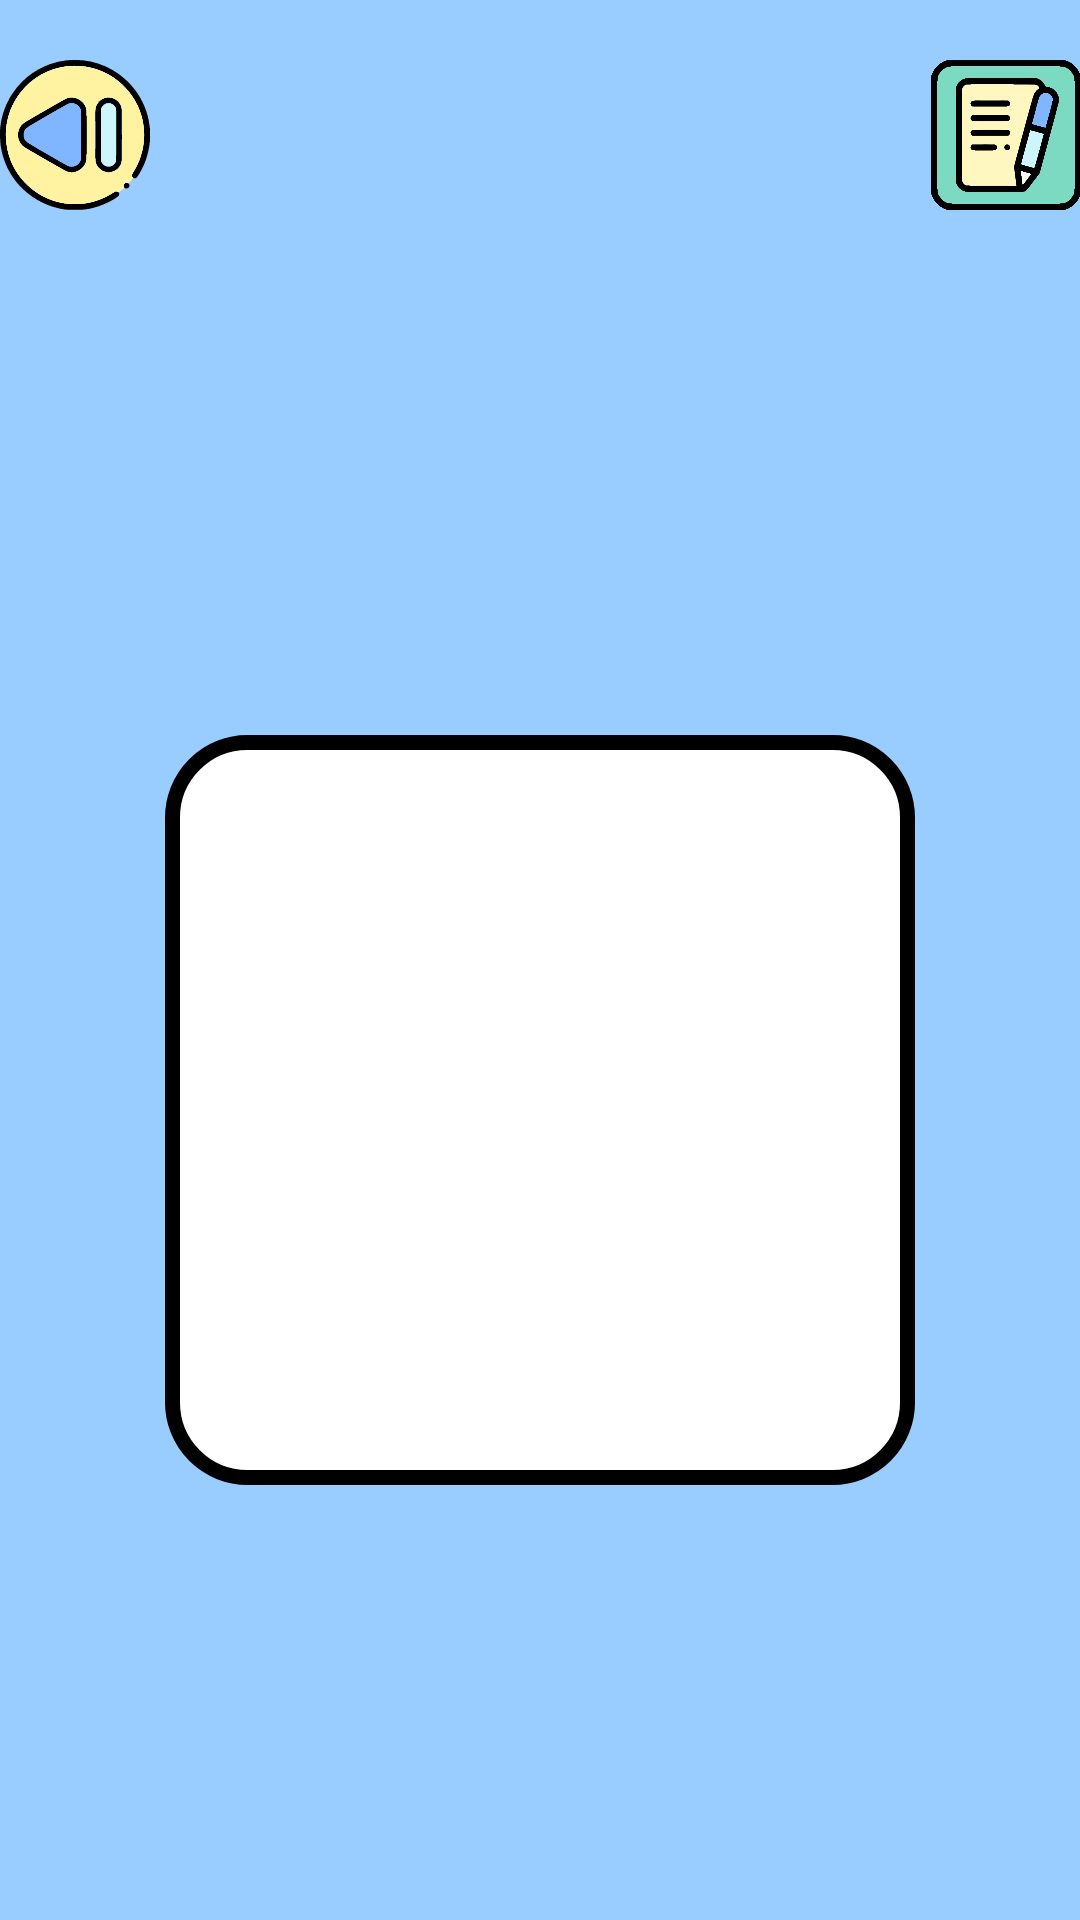

Named icons in this screenshot (1080 x 1920) and their centers, (x,y):
back: (75,135)
edit: (1005,135)
